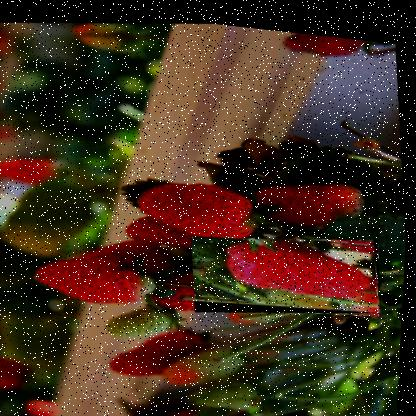strawberry: (189, 212, 387, 322)
